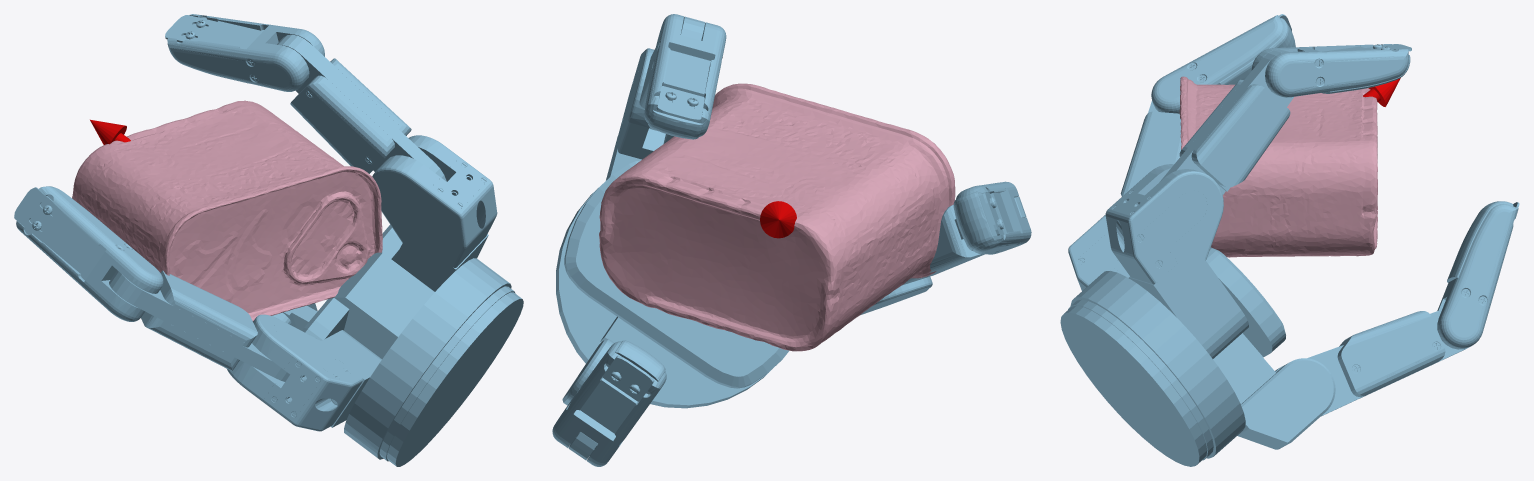
3 views of the same model, side by side, from view 1: azimuth 30°, elevation 25°; view 2: azimuth 150°, elevation 25°; view 3: azimuth 270°, elevation 25° (orthographic). The views are drawn at different scales.
Visible parts, largest first — view 1: world, potted_meat_can.stl; view 2: potted_meat_can.stl, world; view 3: world, potted_meat_can.stl.
Part boxes in pixels (left/top/right/bottom): world: left=14, top=14, right=523, bottom=466; potted_meat_can.stl: left=72, top=100, right=382, bottom=321; potted_meat_can.stl: left=599, top=83, right=955, bottom=351; world: left=552, top=14, right=1031, bottom=466; world: left=1060, top=14, right=1519, bottom=466; potted_meat_can.stl: left=1179, top=76, right=1377, bottom=257.
Size of the model in its own units: 0.2065 by 0.1766 by 0.1933.
